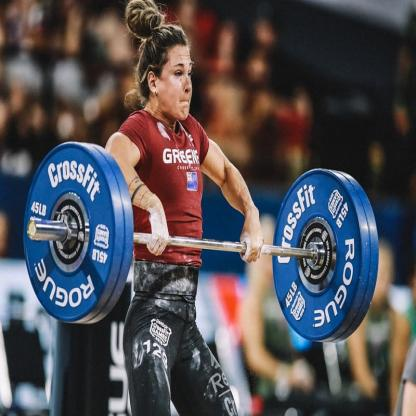barbell: (24, 142, 118, 324), (273, 167, 365, 344)
